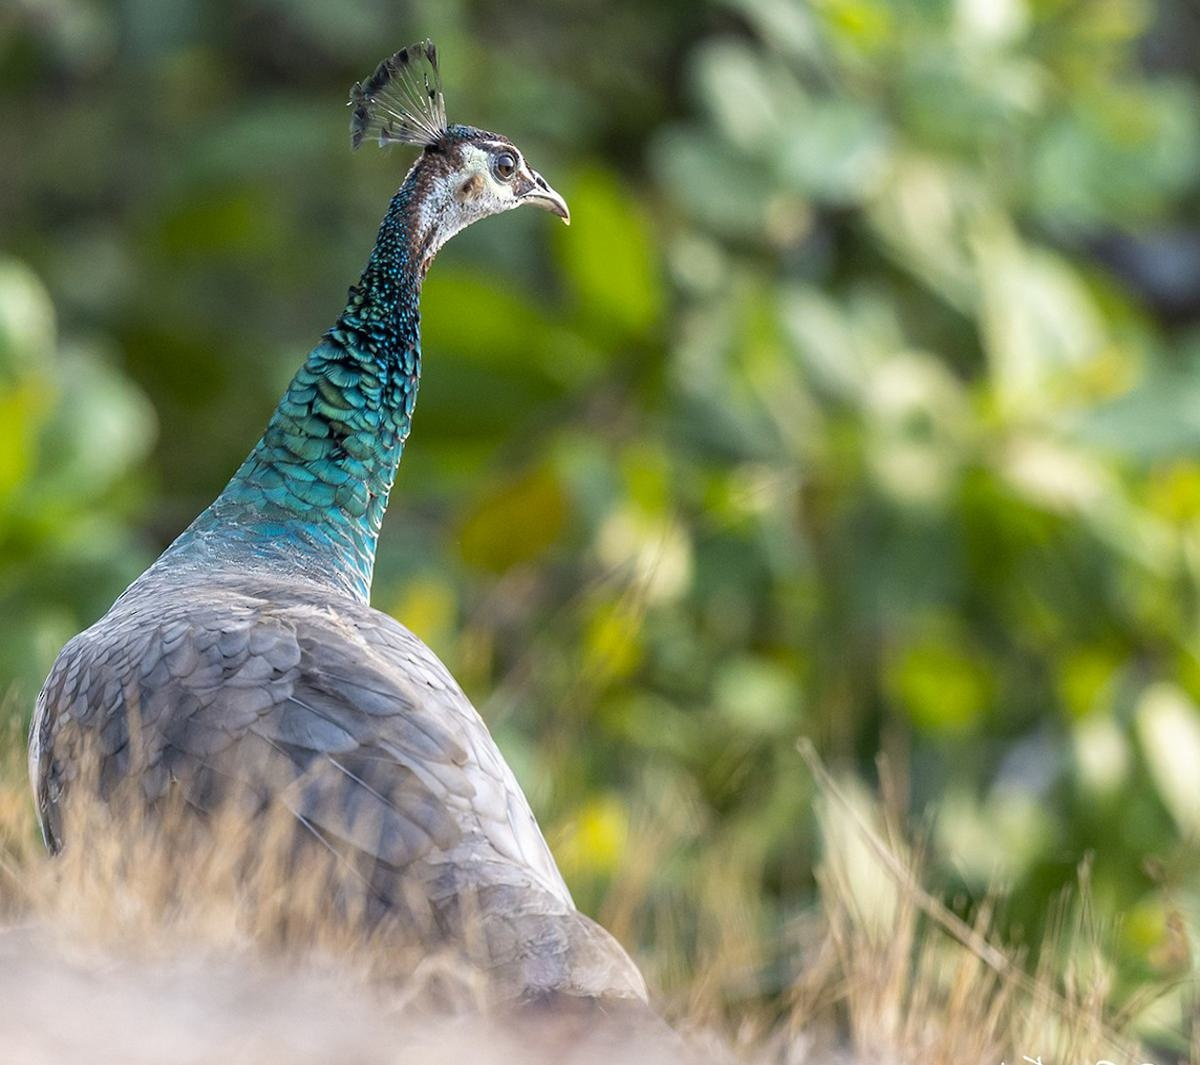peacock: (27, 36, 622, 1065)
